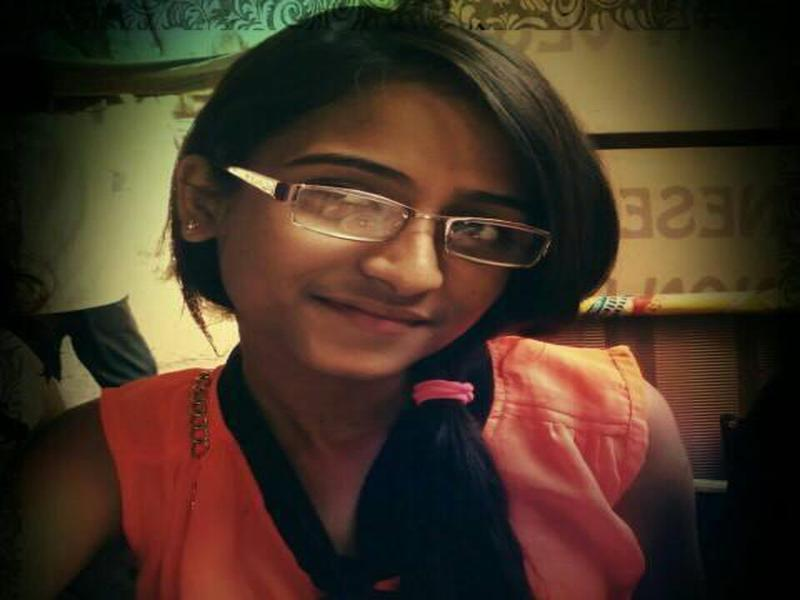without_mask: (221, 82, 523, 380)
